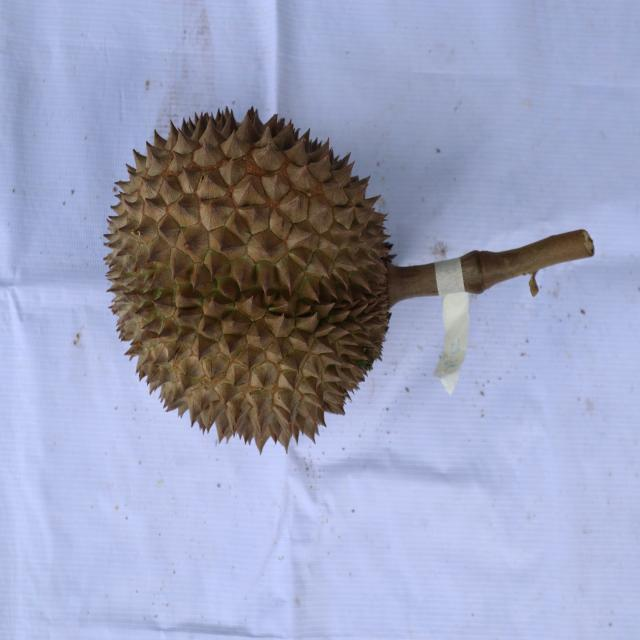mature: (97, 102, 398, 453)
